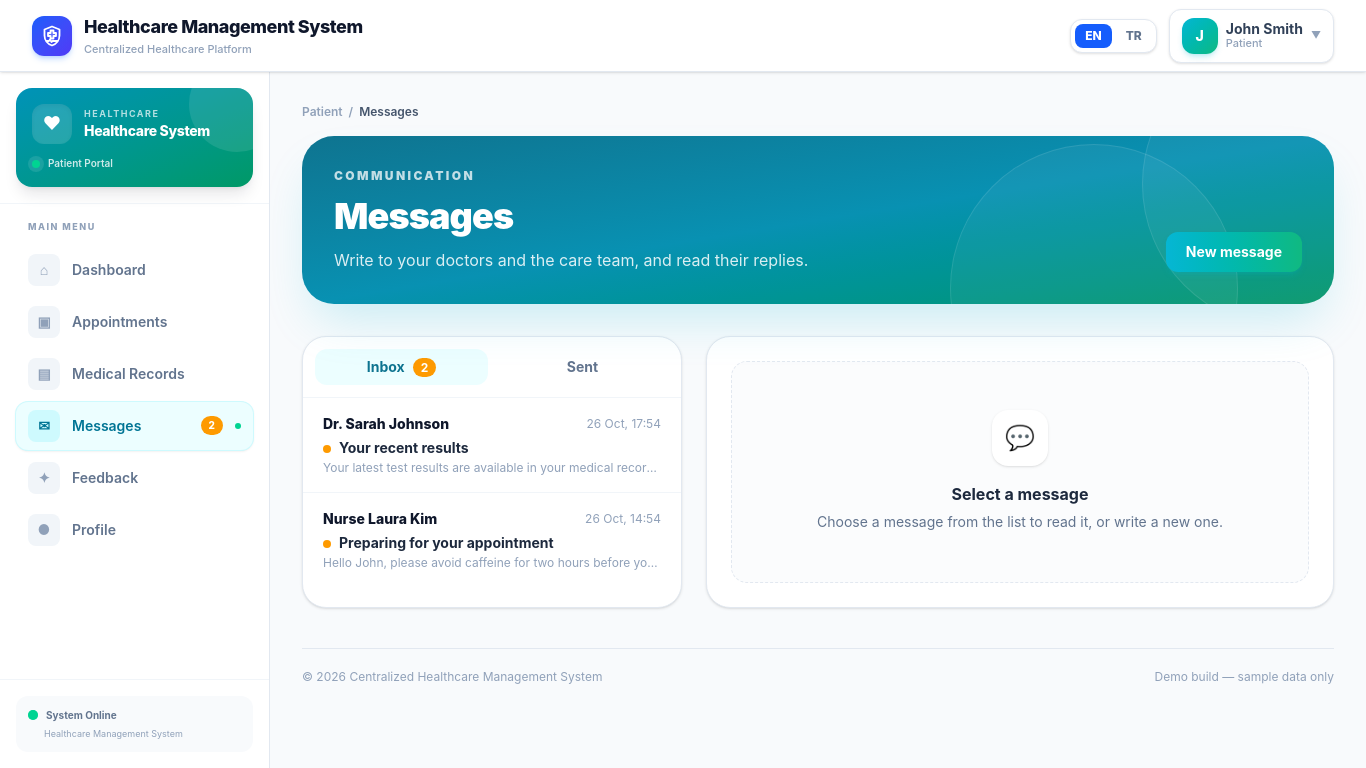
messages › reads a message, which clears its unread state
The width and height of the screenshot is (1366, 768).
Click the text "Your recent results".
click(396, 448)  # box top-left (323, 439), bottom-right (469, 456)
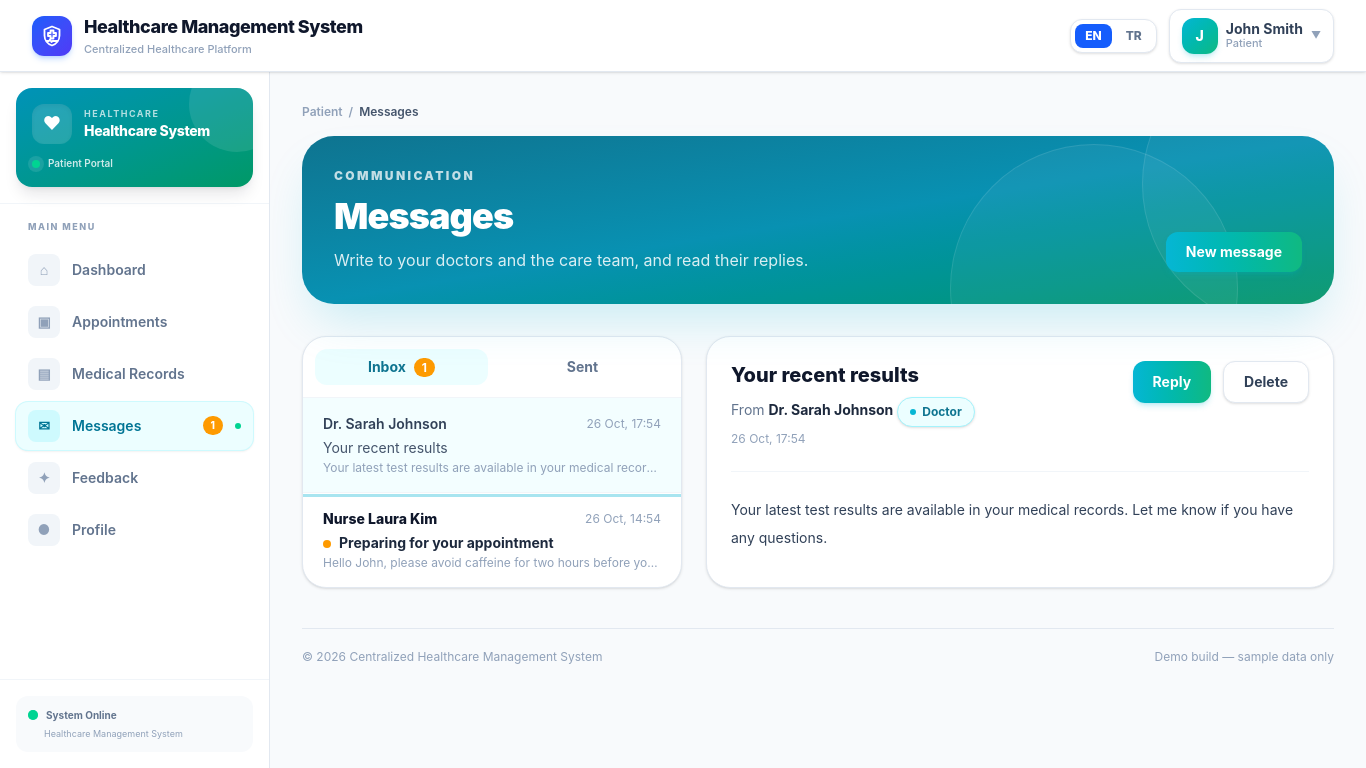
Expected: the text "test results are available in your medical records" is shown 2 times, top-left (323, 460), bottom-right (661, 476); top-left (731, 471), bottom-right (1309, 552)
Now the tab "Inbox1" is shown, box top-left (315, 349), bottom-right (488, 385)
